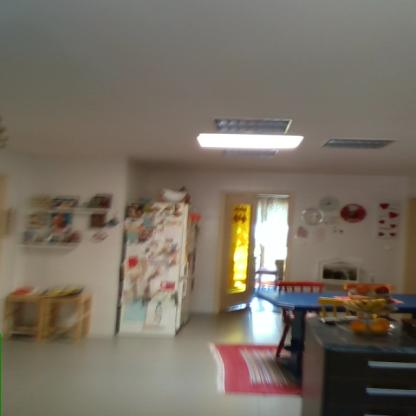semi: (214, 188, 296, 316)
